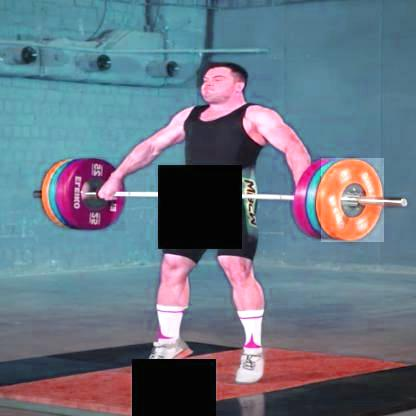barbell: (320, 158, 382, 243), (61, 157, 124, 231)
